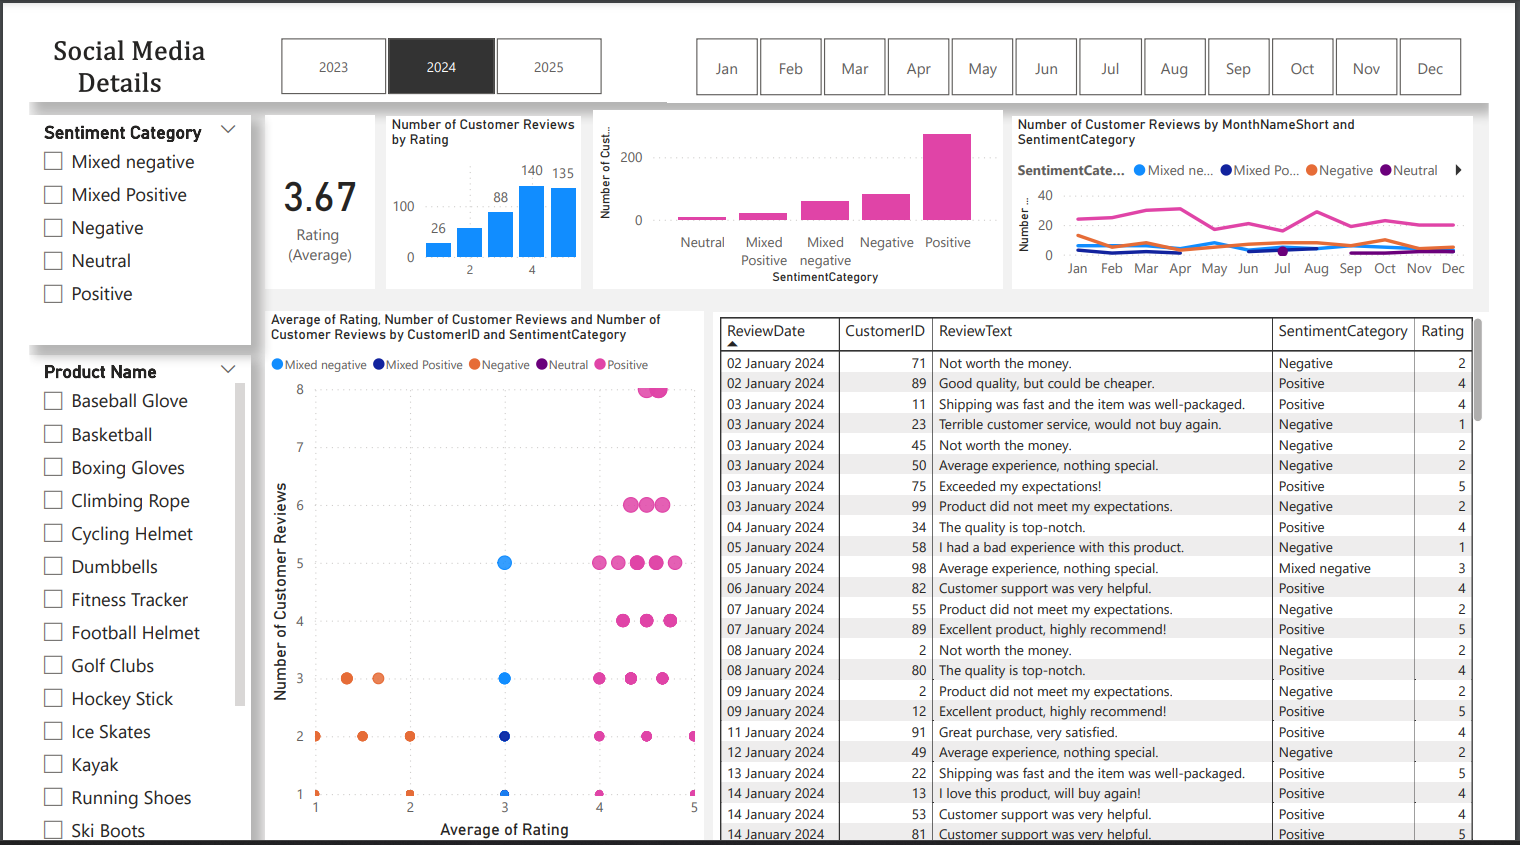

This screenshot's page, from the dashboard's own definition file:
{"tool":"powerbi","page":{"name":"Customer Review Details","canvas":[1280,720],"ordinal":3},"visuals":[{"type":"textbox","box":[0,0,1280.3,63.1],"z":0},{"type":"slicer","fields":{"Values":["dim_products.ProductName"]},"box":[0,284.9,194.4,435.3],"z":1000},{"type":"slicer","fields":{"Values":["Calendar.Year"]},"box":[194.9,0,330.7,63.1],"z":2000},{"type":"slicer","fields":{"Values":["Calendar.MonthNameShort"]},"box":[558.8,0,721.5,63.6],"z":3000},{"type":"card","fields":{"Values":["Calculations.Rating (Average)"]},"box":[206.7,74.6,96.6,152.9],"z":4000},{"type":"columnChart","fields":{"Category":["fact_customer_reviews_with_sentiment_.Rating"],"Y":["Calculations.Number of Customer Reviews"]},"box":[313,75.8,171.2,151.6],"z":5000},{"type":"columnChart","fields":{"Category":["fact_customer_reviews_with_sentiment_.SentimentCategory"],"Y":["Calculations.Number of Customer Reviews"]},"box":[495.2,69.7,358.3,157.7],"z":6000},{"type":"lineChart","fields":{"Category":["Calendar.MonthNameShort"],"Series":["fact_customer_reviews_with_sentiment_.SentimentCategory"],"Y":["Calculations.Number of Customer Reviews"]},"box":[862.1,75.8,403.5,151.6],"z":7000},{"type":"tableEx","fields":{"Values":["fact_customer_reviews_with_sentiment_.ReviewDate","fact_customer_reviews_with_sentiment_.CustomerID","fact_customer_reviews_with_sentiment_.ReviewText","fact_customer_reviews_with_sentiment_.SentimentCategory","fact_customer_reviews_with_sentiment_.Rating"]},"box":[600.4,247,679.9,470.8],"z":8000},{"type":"scatterChart","fields":{"X":["Avg(fact_customer_reviews_with_sentiment_.Rating)"],"Y":["Calculations.Number of Customer Reviews"],"Category":["fact_customer_reviews_with_sentiment_.CustomerID"],"Series":["fact_customer_reviews_with_sentiment_.SentimentCategory"],"Size":["Calculations.Number of Customer Reviews"]},"box":[206.7,247,385.2,467.1],"z":9000},{"type":"slicer","fields":{"Values":["fact_customer_reviews_with_sentiment_.SentimentCategory"]},"box":[0,74.6,194.4,201.8],"z":10000}]}

Visuals, with their boxes in screenshot pixels (x1, y1, x2, y2), scaled from the page's 1280x720 canvas onto the 1520x845 screenshot:
textbox: BBox(0, 0, 1519, 74)
slicer - dim_products.ProductName: BBox(0, 334, 231, 844)
slicer - Calendar.Year: BBox(231, 0, 624, 74)
slicer - Calendar.MonthNameShort: BBox(664, 0, 1519, 75)
card - Calculations.Rating (Average): BBox(245, 88, 360, 267)
columnChart - fact_customer_reviews_with_sentiment_.Rating x Calculations.Number of Customer Reviews: BBox(372, 89, 575, 267)
columnChart - fact_customer_reviews_with_sentiment_.SentimentCategory x Calculations.Number of Customer Reviews: BBox(588, 82, 1014, 267)
lineChart - Calendar.MonthNameShort x fact_customer_reviews_with_sentiment_.SentimentCategory: BBox(1024, 89, 1503, 267)
tableEx - fact_customer_reviews_with_sentiment_.ReviewDate x fact_customer_reviews_with_sentiment_.CustomerID: BBox(713, 290, 1519, 842)
scatterChart - Avg(fact_customer_reviews_with_sentiment_.Rating) x Calculations.Number of Customer Reviews: BBox(245, 290, 703, 838)
slicer - fact_customer_reviews_with_sentiment_.SentimentCategory: BBox(0, 88, 231, 324)
